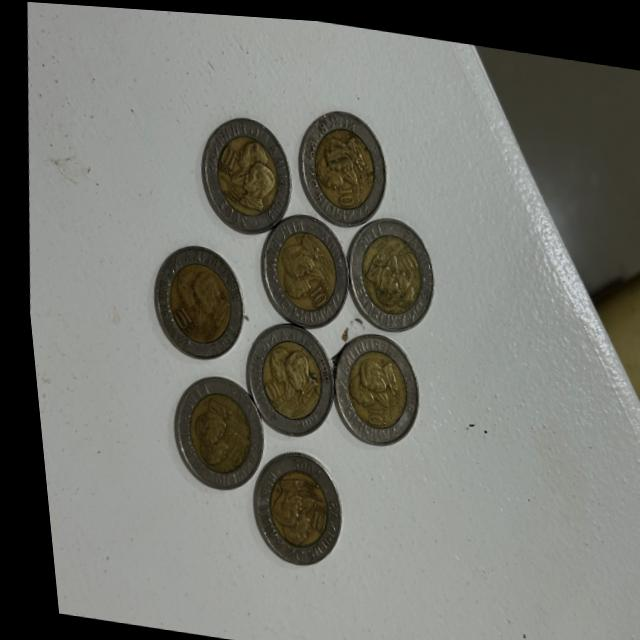10_Old_Front: (179, 393, 244, 466), (162, 298, 195, 338), (354, 394, 390, 429), (208, 136, 241, 174), (324, 176, 359, 211), (388, 237, 419, 272), (250, 375, 279, 408), (298, 273, 327, 305), (296, 499, 319, 531)
